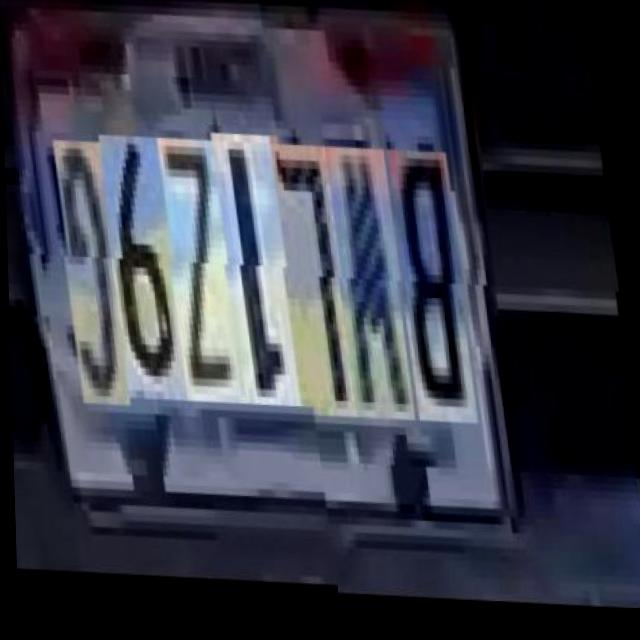1: (216, 140, 303, 421)
9: (103, 142, 190, 416)
b: (391, 146, 479, 428)
g: (58, 149, 133, 420)
l: (275, 143, 357, 422)
w: (329, 143, 417, 425)
z: (162, 146, 244, 417)
